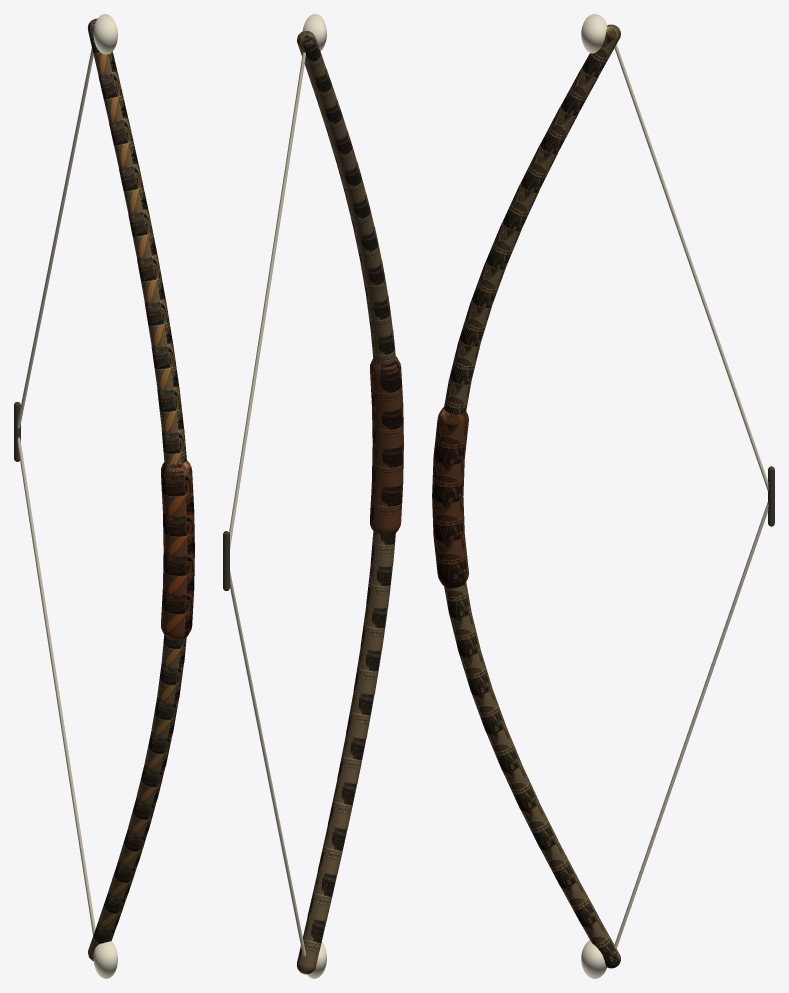
Rendered from survival_bow.glb.
The picture shows the model from 3 angles, left to right: view 1: azimuth 30°, elevation 25°; view 2: azimuth 150°, elevation 25°; view 3: azimuth 270°, elevation 25°; orthographic projection.
Visible parts, largest first — view 1: BatchedSurface, _MeshInstance3D_11, _MeshInstance3D_13, _MeshInstance3D_12; view 2: BatchedSurface, _MeshInstance3D_11, _MeshInstance3D_13, _MeshInstance3D_12, _MeshInstance3D_14; view 3: BatchedSurface, _MeshInstance3D_11, _MeshInstance3D_13, _MeshInstance3D_12.
Part boxes in pixels (<box>): BatchedSurface: <box>88,18,186,961</box>; _MeshInstance3D_11: <box>161,460,194,640</box>; _MeshInstance3D_13: <box>17,48,95,935</box>; _MeshInstance3D_12: <box>93,14,117,978</box>; BatchedSurface: <box>297,31,395,974</box>; _MeshInstance3D_11: <box>370,356,403,535</box>; _MeshInstance3D_13: <box>229,52,305,956</box>; _MeshInstance3D_12: <box>302,14,326,978</box>; _MeshInstance3D_14: <box>223,531,229,590</box>; BatchedSurface: <box>444,24,620,968</box>; _MeshInstance3D_11: <box>432,407,468,588</box>; _MeshInstance3D_13: <box>614,44,768,948</box>; _MeshInstance3D_12: <box>581,14,607,978</box>.
Size of the model in its own units: 0.032 by 1.08 by 0.3495.
5 materials, 2 textured.
